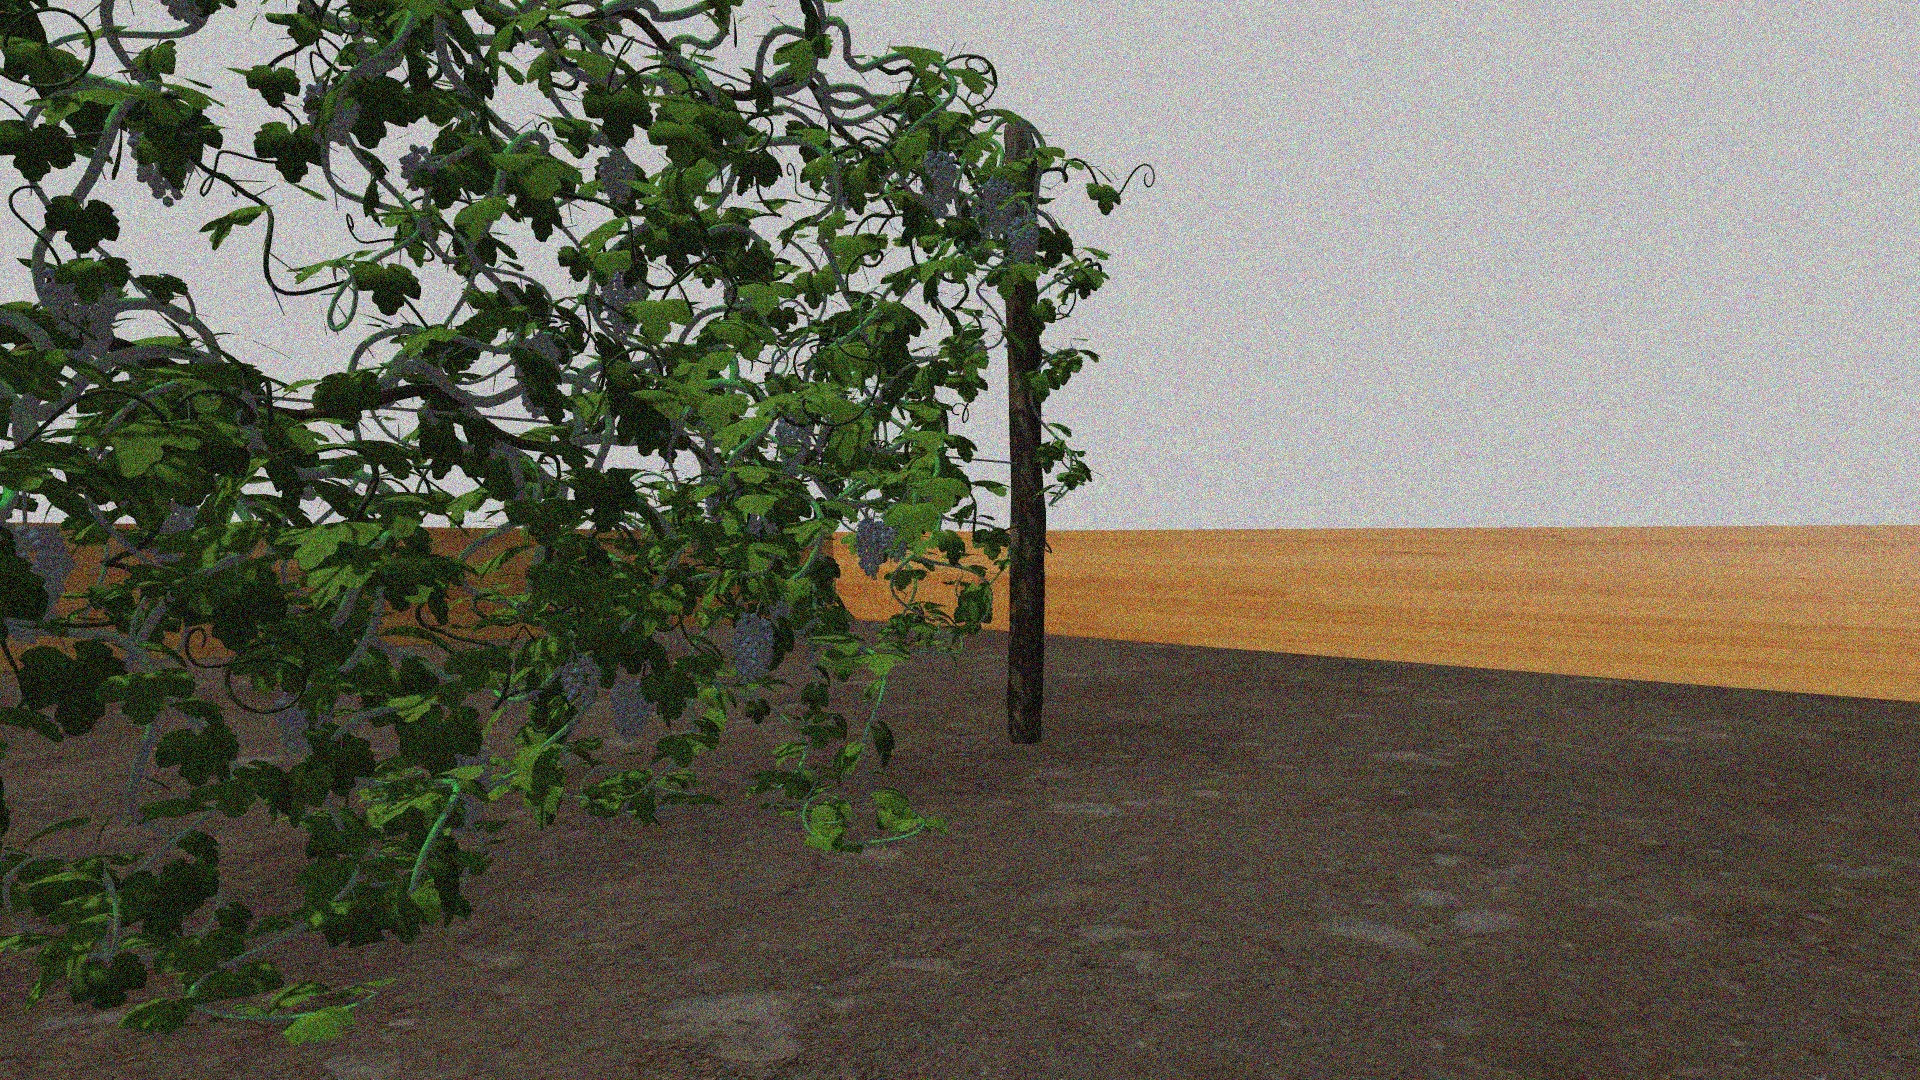grape: (9, 521, 76, 645), (302, 80, 363, 145), (79, 278, 123, 357), (729, 612, 775, 684), (276, 692, 334, 748), (38, 274, 88, 338), (599, 274, 647, 338), (611, 680, 658, 745), (559, 657, 603, 715), (922, 152, 957, 222), (853, 520, 894, 579), (396, 142, 444, 189), (978, 179, 1017, 237), (599, 148, 637, 200), (773, 417, 814, 465), (1007, 218, 1042, 265)
